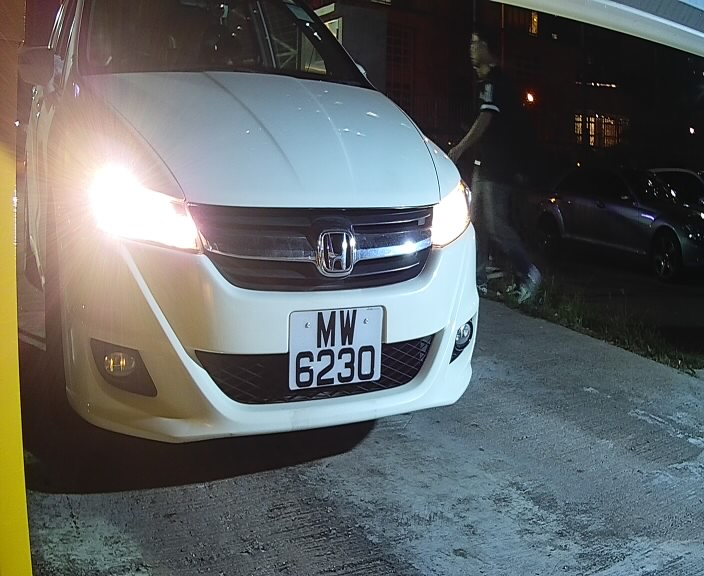Car: (29, 2, 491, 449)
License Plate: (282, 296, 393, 402)
